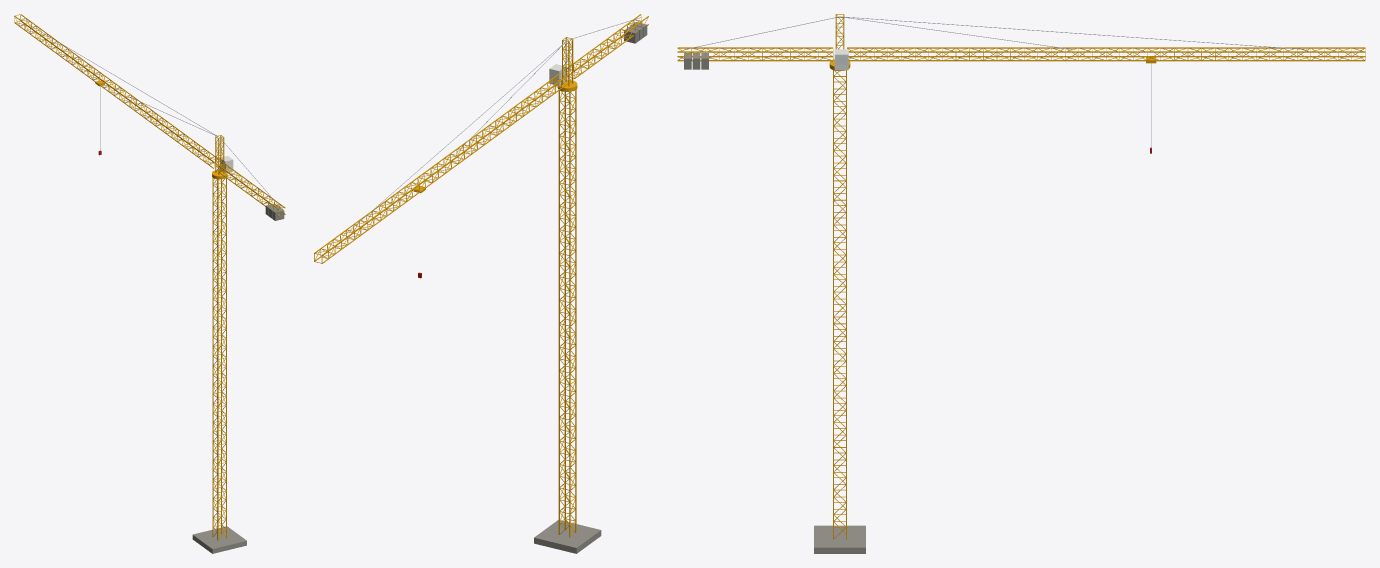
File: plant.crane.tower_60.glb
3 views of the same model, side by side, from view 1: azimuth 30°, elevation 25°; view 2: azimuth 150°, elevation 25°; view 3: azimuth 270°, elevation 25° (orthographic). The views are drawn at different scales.
Visible parts, largest first — view 1: mast__plant_yellow, jib__plant_yellow, base__concrete, slew__plant_yellow, jib__steel_galvanised; view 2: mast__plant_yellow, jib__plant_yellow, base__concrete, slew__plant_yellow, jib__steel_galvanised; view 3: jib__plant_yellow, mast__plant_yellow, base__concrete, jib__steel_galvanised.
Part boxes in pixels (bbox=[...]): mast__plant_yellow: bbox=[212, 178, 226, 540]; jib__plant_yellow: bbox=[14, 14, 285, 216]; base__concrete: bbox=[192, 526, 246, 553]; slew__plant_yellow: bbox=[212, 135, 227, 179]; jib__steel_galvanised: bbox=[40, 31, 279, 206]; mast__plant_yellow: bbox=[558, 90, 576, 537]; jib__plant_yellow: bbox=[314, 14, 648, 263]; base__concrete: bbox=[534, 520, 601, 553]; slew__plant_yellow: bbox=[557, 37, 577, 91]; jib__steel_galvanised: bbox=[346, 17, 641, 233]; jib__plant_yellow: bbox=[677, 47, 1365, 61]; mast__plant_yellow: bbox=[833, 70, 846, 539]; base__concrete: bbox=[814, 525, 865, 553]; jib__steel_galvanised: bbox=[684, 16, 1306, 49].
Size of the model in its own units: 6 by 67.33 by 79.64.
